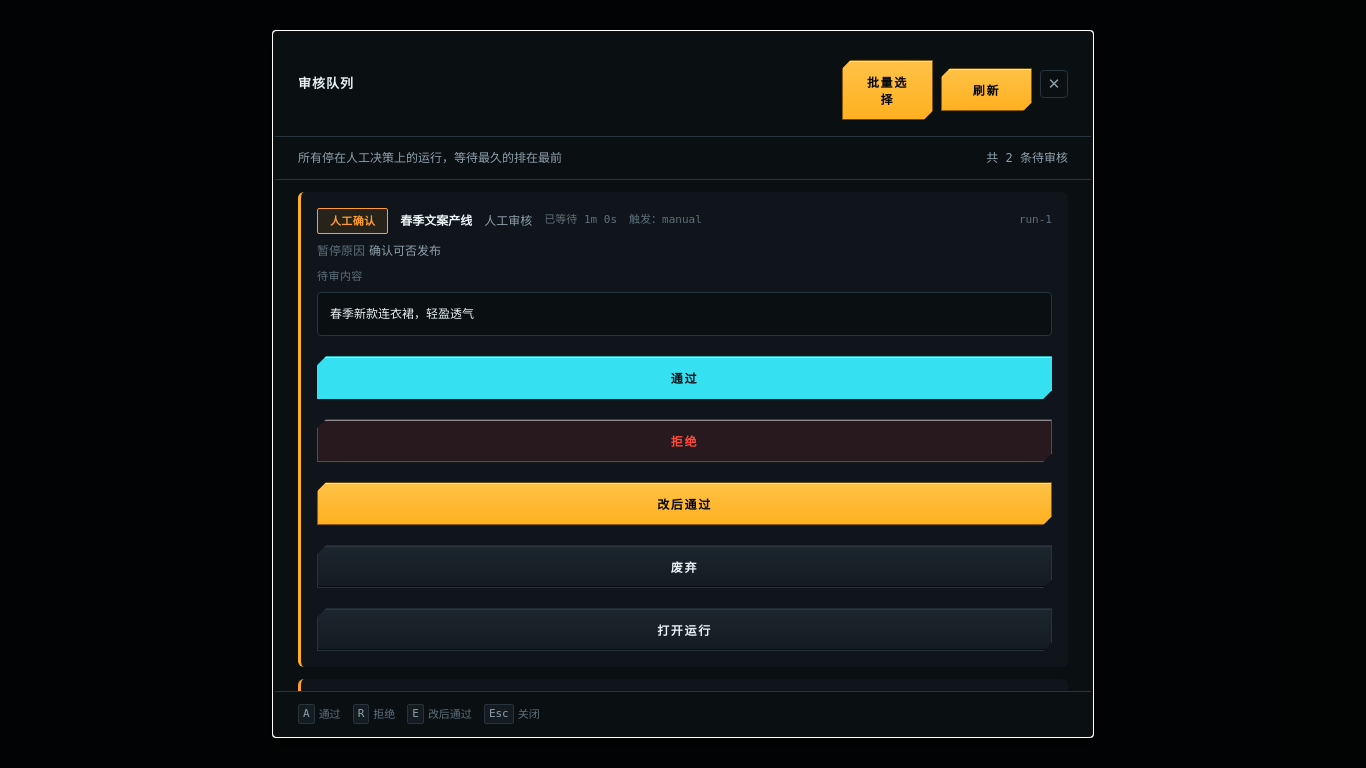
Scenario: ReviewQueue › 批量选择 › 进入批量选择后出现复选框，退出后消失
Expected: the heading "审核队列" is shown, x1=298 y1=74 x2=354 y2=94
Click the button "批量选择": (887, 90) x1=842 y1=60 x2=933 y2=120
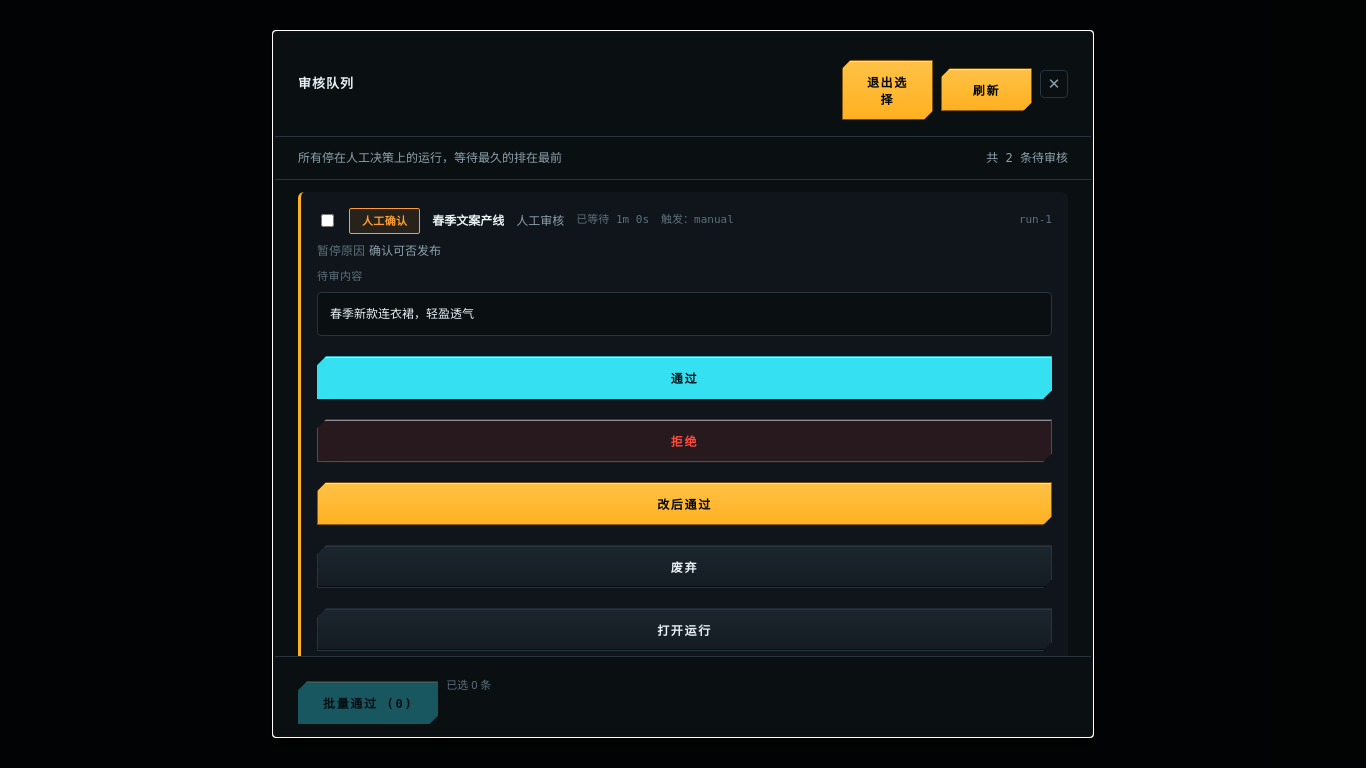
Result: the button "退出选择" is shown
Click the button "退出选择": (887, 90) x1=842 y1=60 x2=933 y2=120
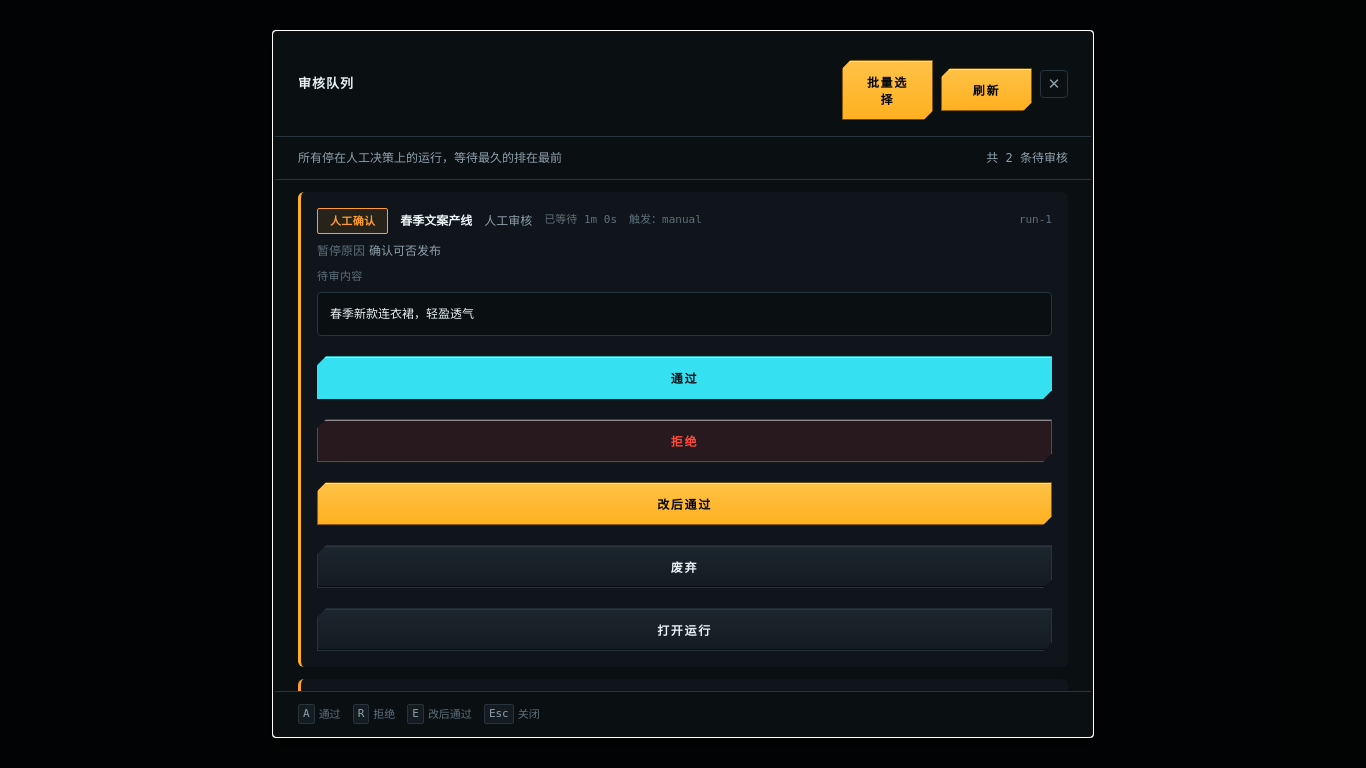
Result: no checkboxes are shown
